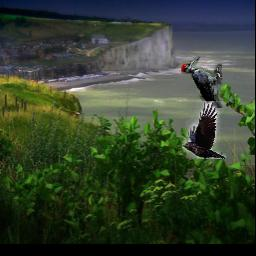Crow: (182, 101, 226, 159)
Woodpecker: (180, 56, 221, 108)
